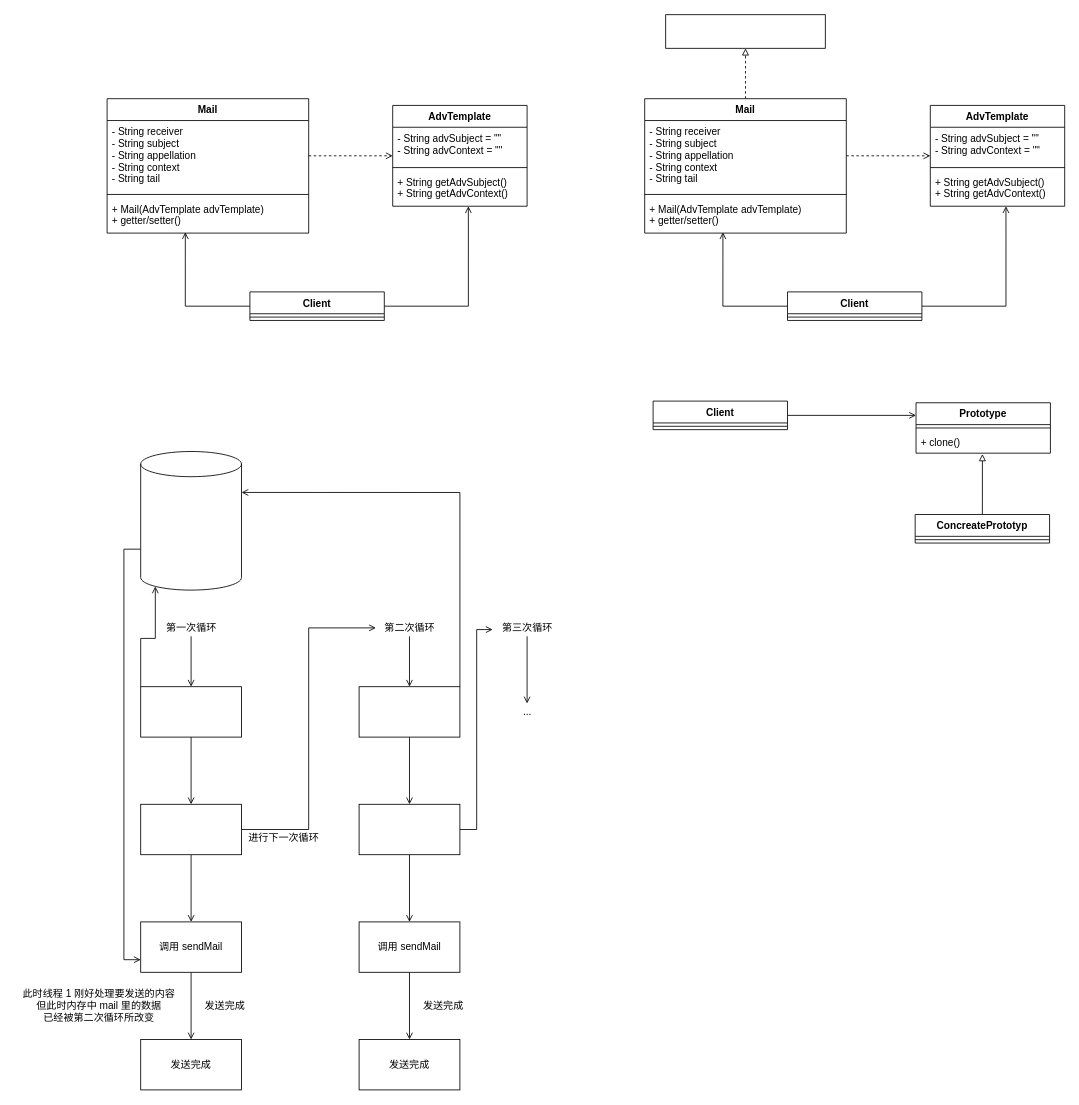
Some shapes in this 1079 by 1105 pixel diagram are drawn without their labels. Here are the shapes that lost their labels. From the top down, the centre of each, then its label:
the point at 745,31: <<Interface>> Cloneable
the point at 191,520: new Mail 新建出来的变量在内存里
the point at 191,711: 姓名：大壮 称谓：主角
the point at 409,711: 姓名：小美 称谓：小卡拉米
the point at 191,829: 线程 1
the point at 409,829: 线程 2
